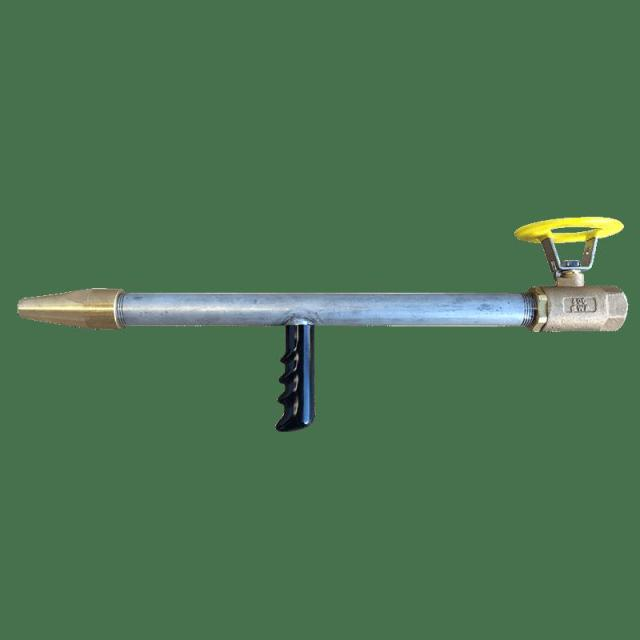weapon: (6, 277, 636, 433)
